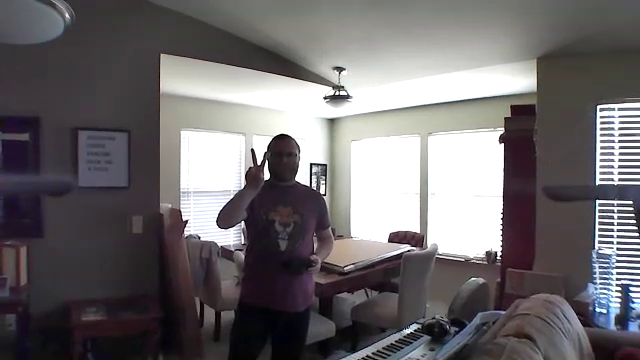peace: (244, 143, 274, 192)
